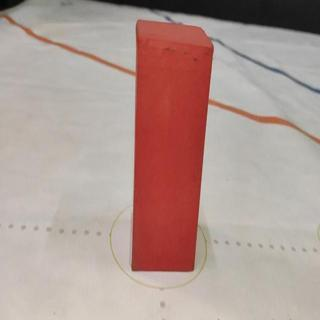redbox: (132, 19, 213, 273)
